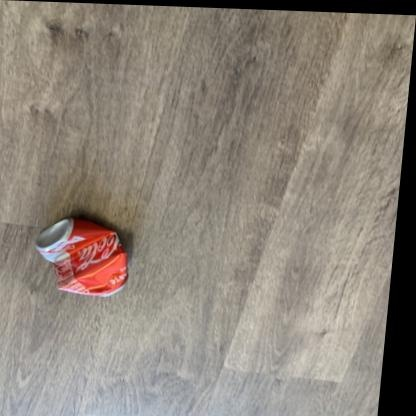trash: (35, 218, 127, 295)
